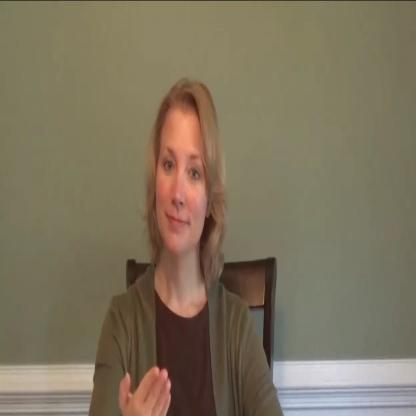ThankYou: (112, 75, 267, 416)
